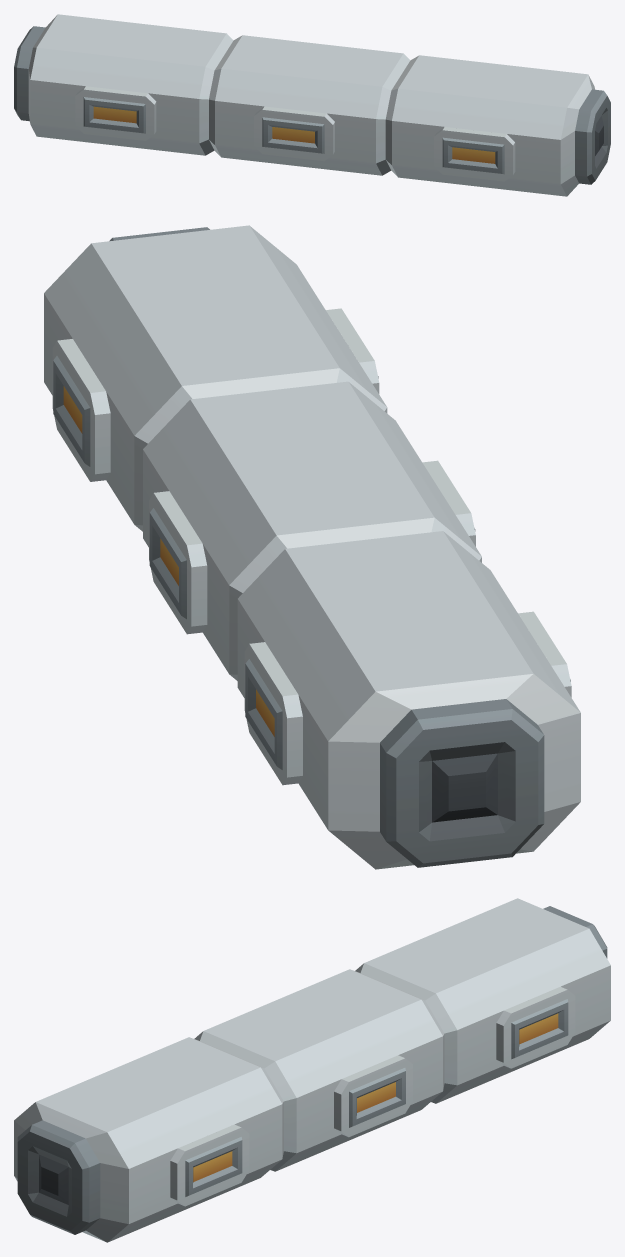
File: kaykit-space-base-bits-tunnel-diagonal-long-a.glb
3 renders of one model, top to bottom at view 1: azimuth 30°, elevation 25°; view 2: azimuth 150°, elevation 25°; view 3: azimuth 270°, elevation 25°, orthographic. The views are drawn at different scales.
Parts seen in each view (by area): view 1: tunnel_diagonal_long_A; view 2: tunnel_diagonal_long_A; view 3: tunnel_diagonal_long_A.
Boxes of the visible parts, <box> form: tunnel_diagonal_long_A: <box>14,14,610,196</box>; tunnel_diagonal_long_A: <box>44,225,580,869</box>; tunnel_diagonal_long_A: <box>14,898,610,1242</box>.
Bounding box in the file's own units: 2.94 × 0.5999 × 2.94.
Materials: 1 (1 with a texture image).
